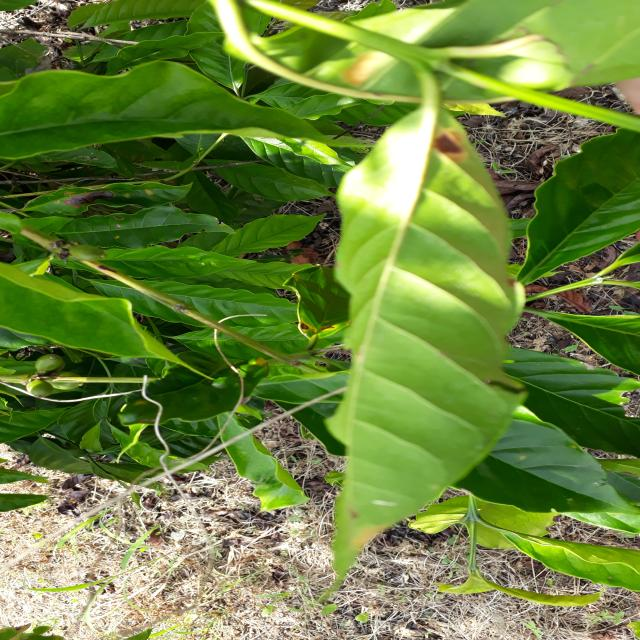Plaga-AranaRoja: (326, 76, 526, 585)
